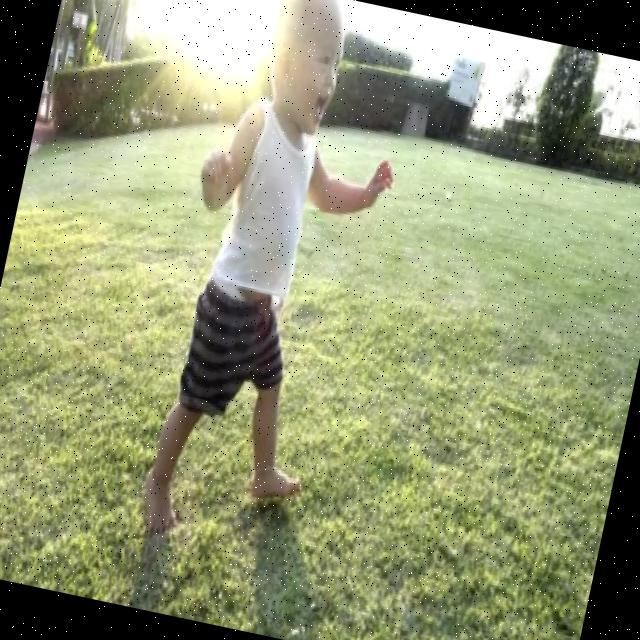Person: (125, 0, 425, 560)
